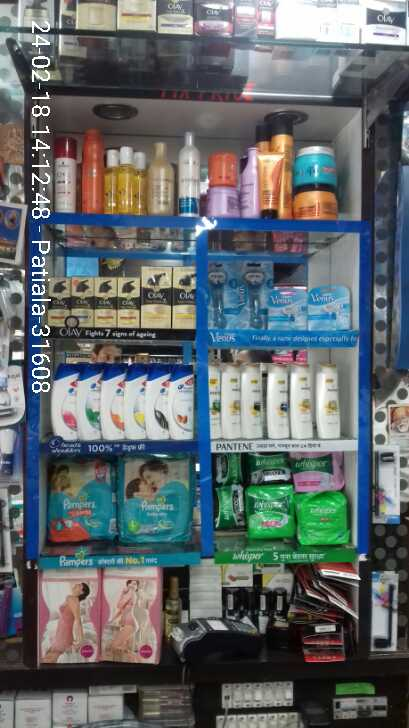venus: (209, 261, 239, 335), (239, 263, 266, 335), (308, 286, 352, 329), (271, 286, 308, 329)
